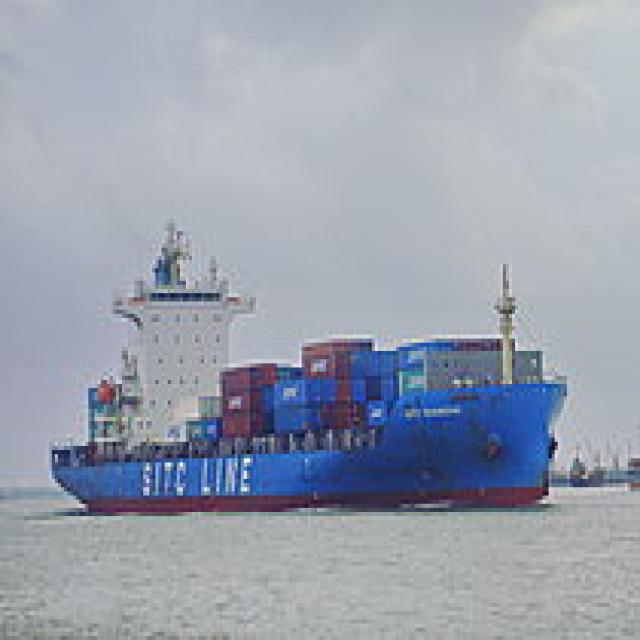Cargo: (43, 202, 567, 512)
